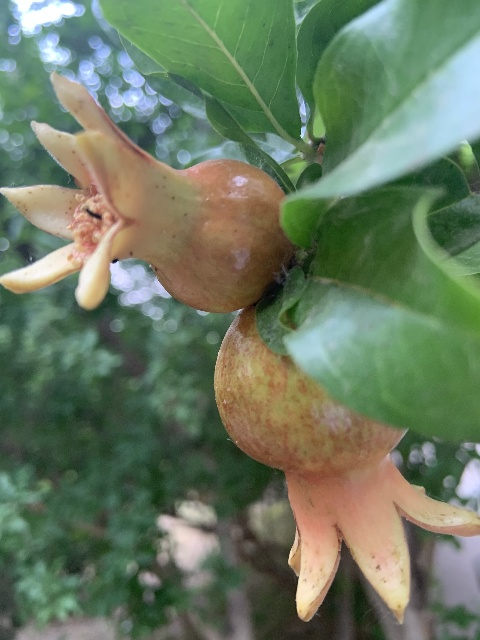early-fruit: (216, 304, 477, 626), (3, 71, 289, 316)
